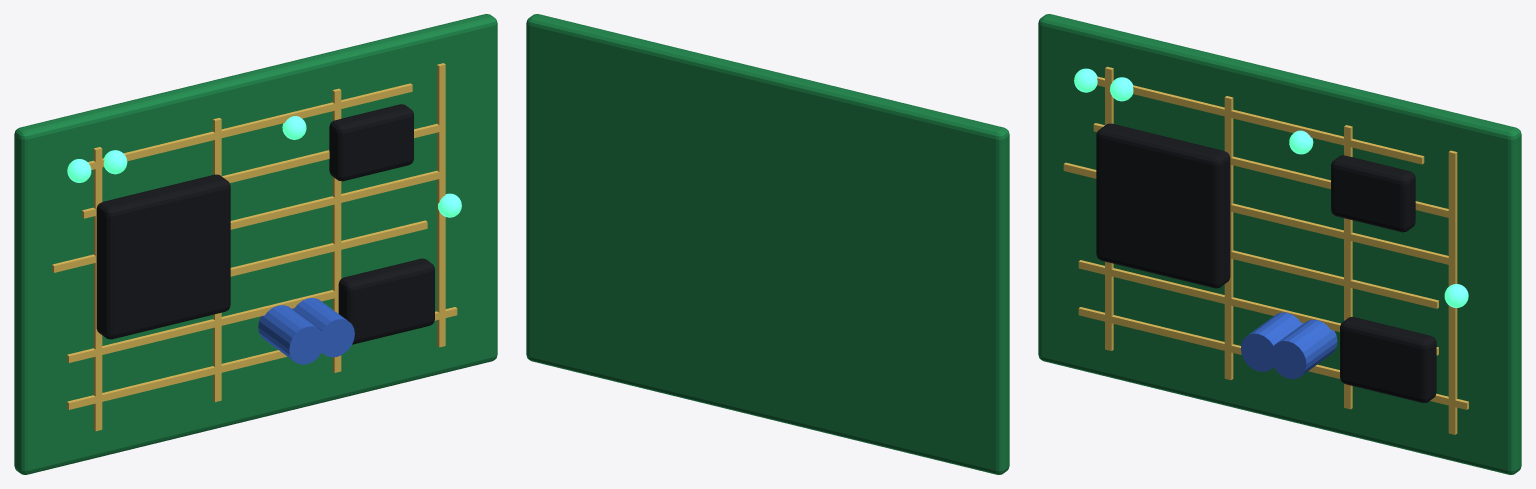
The model's file is placa_circuito.glb.
3 views of the same model, side by side, from view 1: azimuth 30°, elevation 25°; view 2: azimuth 150°, elevation 25°; view 3: azimuth 330°, elevation 25° (orthographic).
Visible parts, largest first — view 1: Cube, Cube.011, Cube.013, Cube.012, Cube.006, Cylinder, Cube.004, Cube.010, Cube.002, Cube.001, Cylinder.001, Cube.003 (+4 smaller); view 2: Cube; view 3: Cube, Cube.011, Cube.013, Cube.012, Cube.006, Cylinder.001, Cube.010, Cube.004, Cube.002, Cube.001, Cube.003, Cube.008 (+4 smaller).
Part boxes in pixels (<box>): Cube: <box>14,14,497,474</box>; Cube.011: <box>96,174,230,339</box>; Cube.013: <box>338,258,434,344</box>; Cube.012: <box>329,104,413,181</box>; Cube.006: <box>88,83,412,169</box>; Cylinder: <box>258,305,324,364</box>; Cube.004: <box>52,170,442,272</box>; Cube.010: <box>437,63,445,347</box>; Cube.002: <box>67,290,338,362</box>; Cube.001: <box>67,307,457,409</box>; Cylinder.001: <box>292,298,354,357</box>; Cube.003: <box>230,220,427,276</box>; Cube: <box>526,14,1009,474</box>; Cube: <box>1038,14,1521,474</box>; Cube.011: <box>1096,123,1230,288</box>; Cube.013: <box>1340,317,1436,402</box>; Cube.012: <box>1331,155,1415,232</box>; Cube.006: <box>1097,76,1424,164</box>; Cylinder.001: <box>1270,319,1337,379</box>; Cube.010: <box>1448,150,1457,434</box>; Cube.004: <box>1063,162,1451,265</box>; Cube.002: <box>1078,260,1438,355</box>; Cube.001: <box>1078,307,1468,409</box>; Cube.003: <box>1230,250,1438,308</box>; Cube.008: <box>1224,96,1233,380</box>.
Bounding box in the file's own units: 1.6 × 1.1 × 0.24.
